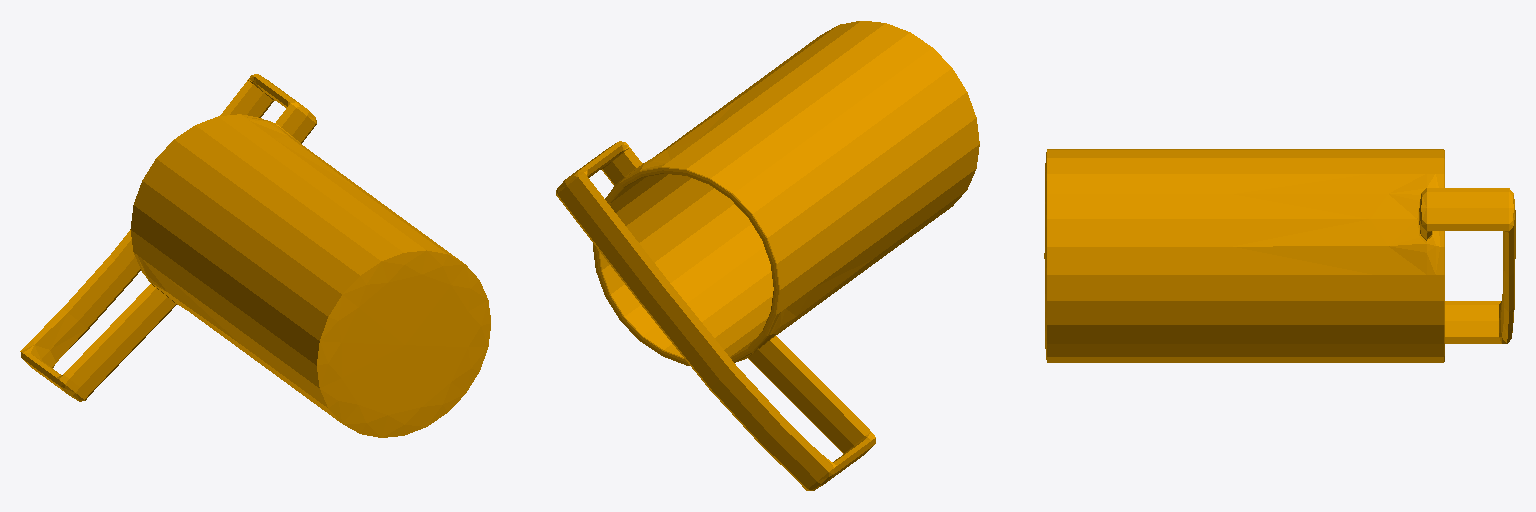
The robot description file, URDF, robot "150":
<?xml version="1.0" ?>
<robot name="150">
  <link name="body">
    <visual>
      <geometry>
        <mesh filename="../shapes/150.obj"/>
      </geometry>
    </visual>
    <collision>
      <geometry>
        <mesh filename="../shapes/150.obj"/>
      </geometry>
    </collision>
  </link>
</robot>

--- Render facts (derived) ---
3 views of the same robot in one strip: view 1: azimuth 30°, elevation 25°; view 2: azimuth 150°, elevation 25°; view 3: azimuth 270°, elevation 25° (orthographic).
Model 150 with 1 links and 0 joints (none), rooted at body, posed all joints at 0.
Links seen in each view (by area): view 1: body; view 2: body; view 3: body.
Link boxes in pixels (x1,y1,x2,y2): body: (20, 74, 490, 437); body: (556, 21, 979, 490); body: (1044, 149, 1515, 362).
Bounding box of the posed robot: 2.68 × 3.96 × 2.44 m (x, y, z).
Meshes: 1 distinct files referenced, 1 mesh visuals loaded (1 OBJ).